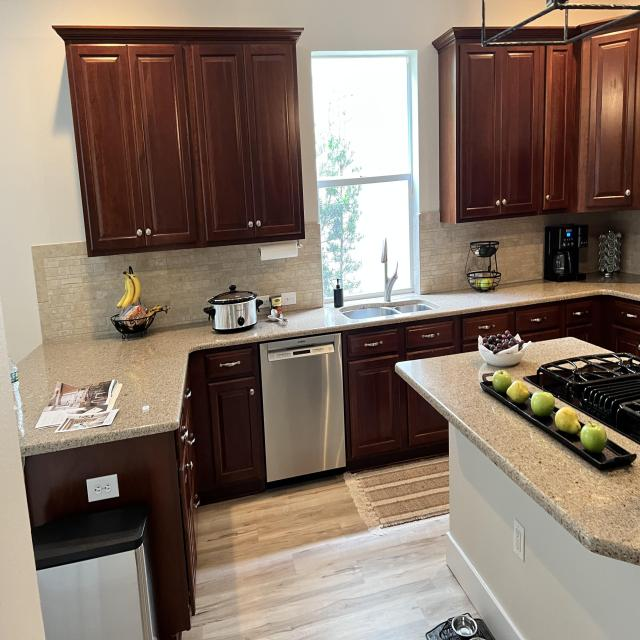Appliance_Dishwasher: (258, 333, 348, 487)
Appliance_Sink: (339, 237, 440, 316)
Appliance_Stove: (523, 353, 640, 445)
Cabinet_Raised_Panel: (55, 28, 305, 259), (342, 295, 640, 469), (433, 28, 640, 226), (176, 345, 268, 597)
Countertop_Granite: (17, 283, 640, 455), (394, 352, 640, 566), (504, 337, 611, 380)
